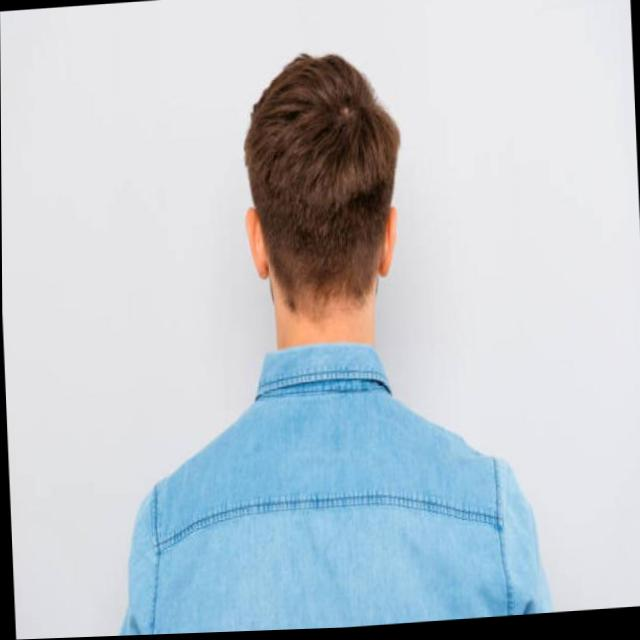no helmet: (224, 20, 430, 412)
